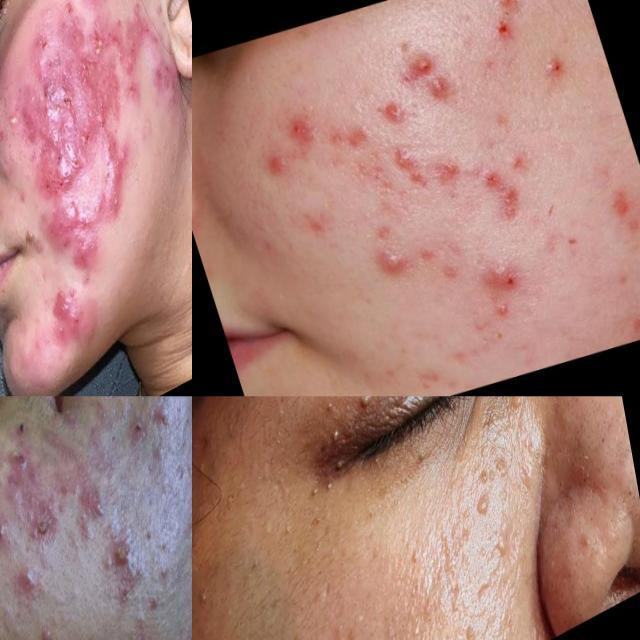Pimples: (26, 38, 96, 200), (45, 178, 105, 289), (66, 462, 122, 554), (88, 122, 134, 225), (359, 232, 433, 292), (477, 158, 531, 224), (73, 48, 109, 136), (0, 440, 40, 518), (106, 518, 146, 586), (414, 62, 466, 111), (596, 174, 640, 230), (484, 253, 532, 301), (352, 158, 394, 208), (400, 43, 448, 84), (29, 507, 62, 563), (488, 396, 536, 434), (406, 358, 453, 396), (260, 144, 296, 192), (16, 561, 44, 609), (2, 99, 28, 148), (286, 109, 315, 149), (320, 410, 346, 454), (479, 0, 529, 18), (384, 104, 412, 136), (90, 22, 114, 59), (566, 396, 588, 429), (620, 480, 638, 518), (580, 524, 598, 562), (0, 514, 14, 562), (578, 461, 596, 495), (282, 516, 298, 550), (10, 612, 28, 640), (596, 430, 612, 460), (308, 482, 320, 508), (84, 0, 112, 10), (102, 121, 104, 125)
